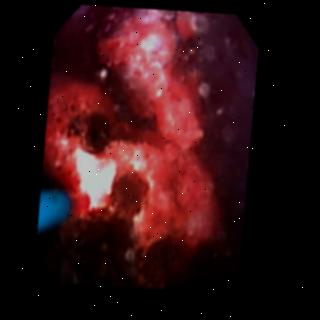fiber: (39, 189, 68, 233)
stone: (40, 78, 229, 286), (96, 9, 202, 147), (177, 12, 207, 40)
